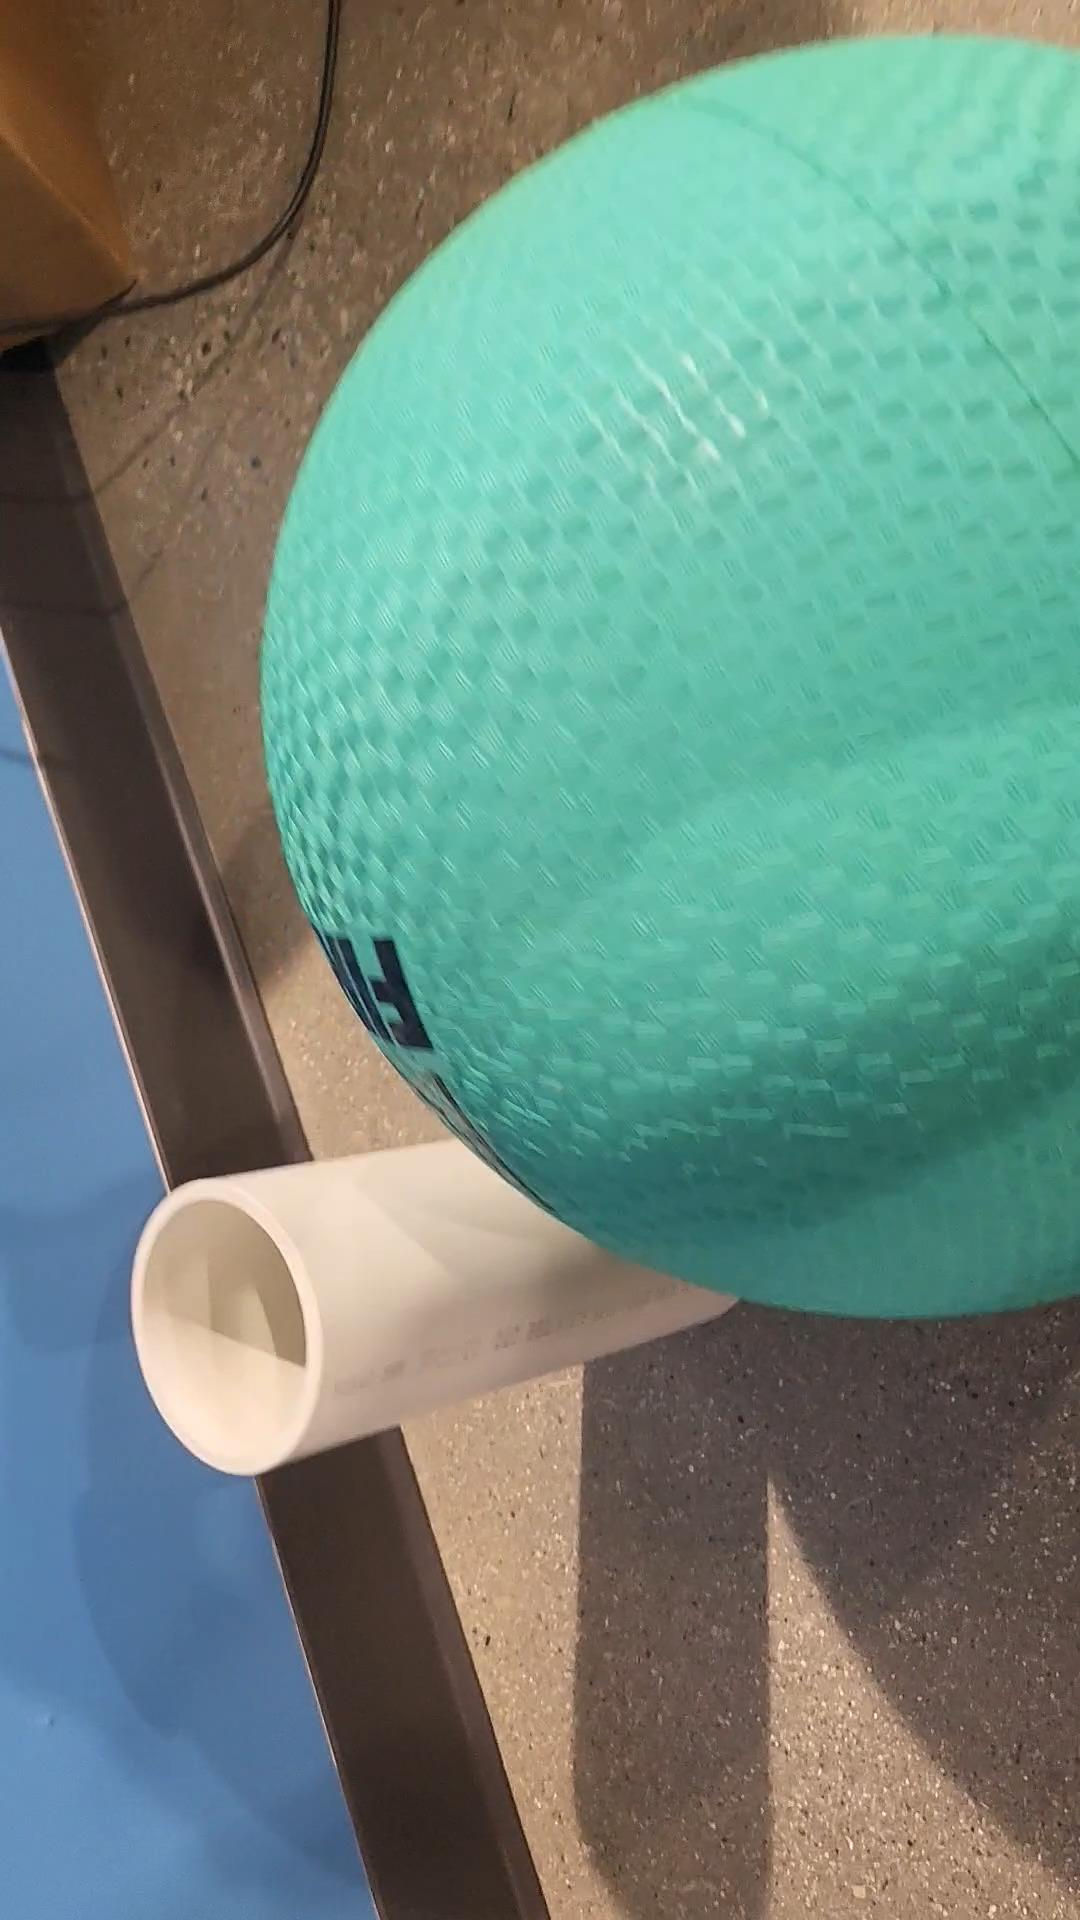algae: (270, 26, 1080, 1324)
coral: (133, 1108, 766, 1480)
